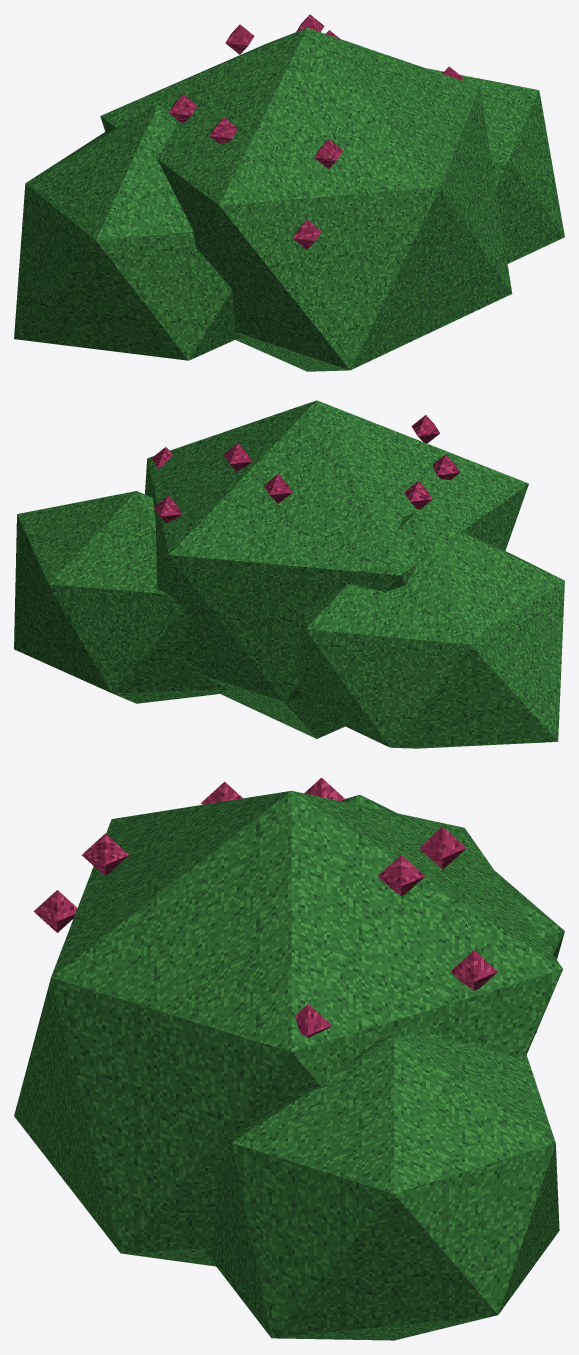
File: bush_berry.glb
3 views of the same model, one above another, from view 1: azimuth 30°, elevation 25°; view 2: azimuth 150°, elevation 25°; view 3: azimuth 270°, elevation 25° (orthographic). The views are drawn at different scales.
Visible parts, largest first — view 1: Body.031; view 2: Body.031; view 3: Body.031.
Boxes of the visible parts, bbox=[...] form: Body.031: bbox=[14, 14, 564, 371]; Body.031: bbox=[14, 400, 564, 748]; Body.031: bbox=[14, 777, 564, 1340].
Size of the model in its own units: 1.28 by 0.7837 by 0.805.
2 materials, 2 textured.
